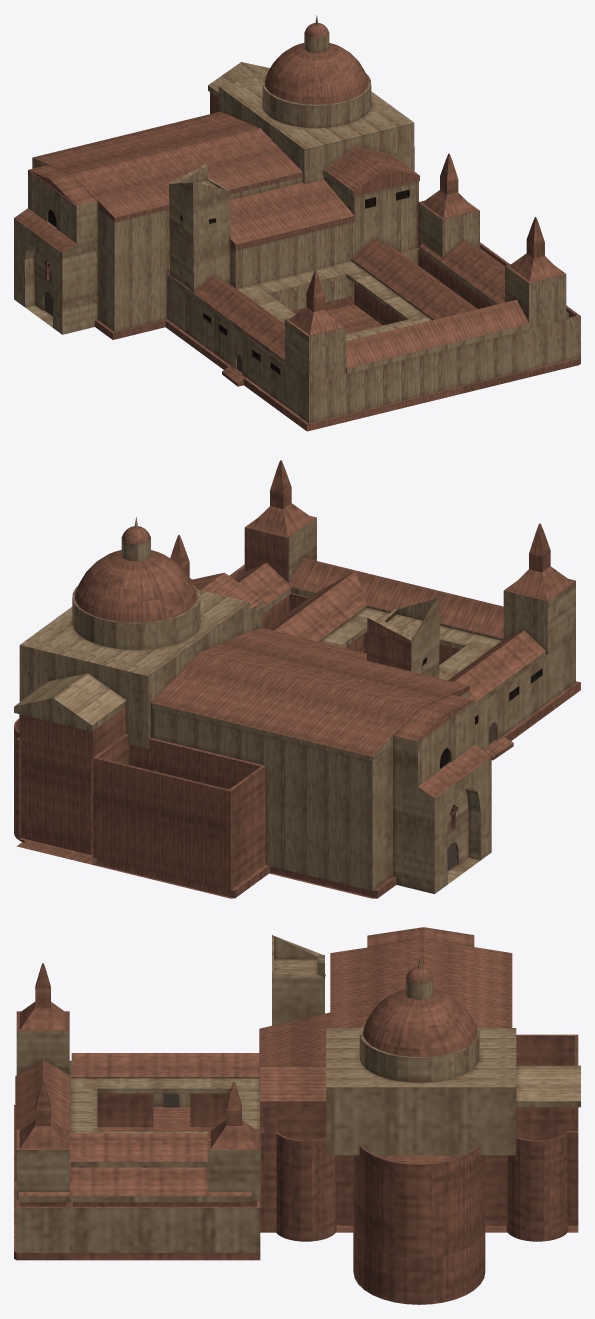
Rendered from Church.fbx.
3 views of the same model, one above another, from view 1: azimuth 30°, elevation 25°; view 2: azimuth 150°, elevation 25°; view 3: azimuth 270°, elevation 25° (orthographic). The views are drawn at different scales.
Parts seen in each view (by area): view 1: Church; view 2: Church; view 3: Church.
Boxes of the visible parts, box(x1,y1,x2,y2) form: Church: box(14, 15, 580, 431); Church: box(14, 460, 580, 898); Church: box(14, 927, 580, 1304).
Bounding box in the file's own units: 11565 × 8115 × 13960.
